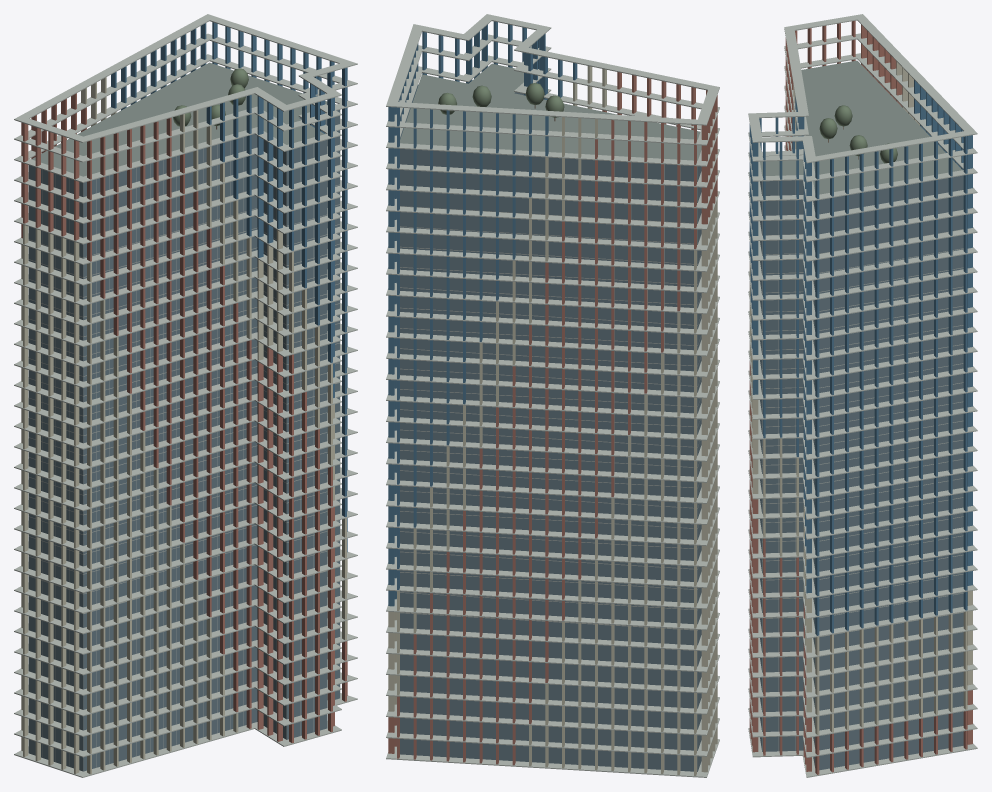
Rendered from tour-la-marseillaise-near.glb.
3 renders of one model, left to right at view 1: azimuth 30°, elevation 25°; view 2: azimuth 150°, elevation 25°; view 3: azimuth 270°, elevation 25°, orthographic. The views are drawn at different scales.
Parts seen in each view (by area): view 1: tour-la-marseillaise-0-glass, tour-la-marseillaise-0-frame, tour-la-marseillaise-0-cream, tour-la-marseillaise-0-red, tour-la-marseillaise-0-blue, tour-la-marseillaise-0-roof, tour-la-marseillaise-0-leaf; view 2: tour-la-marseillaise-0-glass, tour-la-marseillaise-0-frame, tour-la-marseillaise-0-cream, tour-la-marseillaise-0-red, tour-la-marseillaise-0-blue, tour-la-marseillaise-0-roof, tour-la-marseillaise-0-leaf; view 3: tour-la-marseillaise-0-glass, tour-la-marseillaise-0-frame, tour-la-marseillaise-0-blue, tour-la-marseillaise-0-roof, tour-la-marseillaise-0-red, tour-la-marseillaise-0-cream, tour-la-marseillaise-0-leaf.
Part boxes in pixels (box(x1,y1,x2,y2)): tour-la-marseillaise-0-glass: box(28, 110, 339, 771); tour-la-marseillaise-0-frame: box(14, 14, 357, 777); tour-la-marseillaise-0-cream: box(21, 77, 347, 774); tour-la-marseillaise-0-red: box(21, 93, 347, 743); tour-la-marseillaise-0-blue: box(111, 22, 347, 552); tour-la-marseillaise-0-roof: box(31, 62, 335, 176); tour-la-marseillaise-0-leaf: box(173, 68, 248, 126); tour-la-marseillaise-0-glass: box(400, 92, 701, 771); tour-la-marseillaise-0-frame: box(386, 14, 719, 777); tour-la-marseillaise-0-cream: box(388, 66, 717, 775); tour-la-marseillaise-0-red: box(388, 72, 717, 765); tour-la-marseillaise-0-blue: box(388, 21, 577, 606); tour-la-marseillaise-0-roof: box(400, 63, 701, 160); tour-la-marseillaise-0-leaf: box(438, 83, 564, 117); tour-la-marseillaise-0-glass: box(760, 175, 963, 770); tour-la-marseillaise-0-frame: box(748, 14, 977, 777); tour-la-marseillaise-0-blue: box(749, 80, 972, 635); tour-la-marseillaise-0-roof: box(760, 60, 962, 194); tour-la-marseillaise-0-red: box(749, 20, 972, 774); tour-la-marseillaise-0-cream: box(749, 61, 972, 734); tour-la-marseillaise-0-leaf: box(819, 105, 897, 163).
Bounding box in the file's own units: 69.89 × 135 × 45.59.
